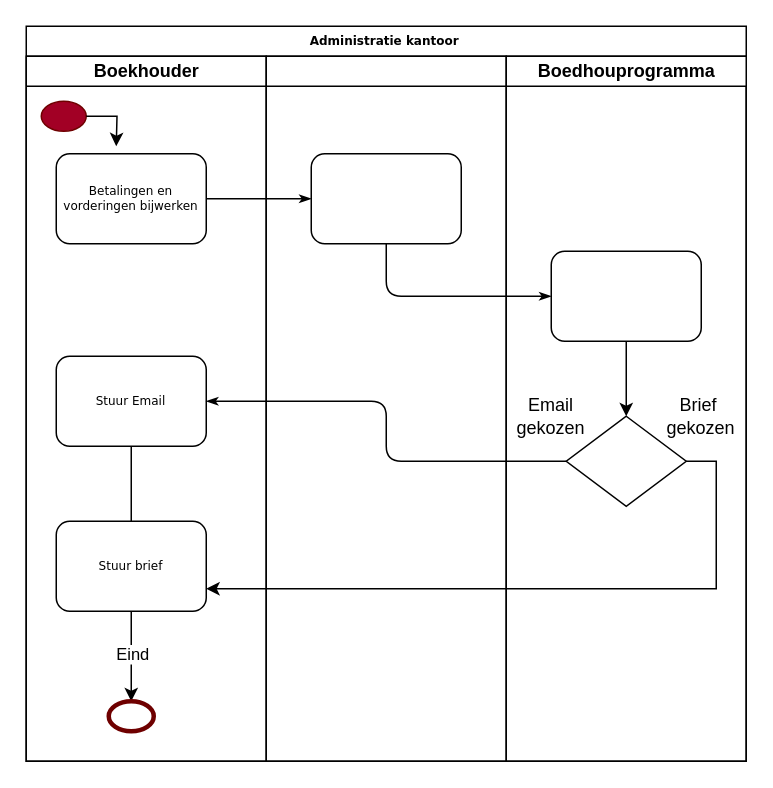
Image size: 773x788. Some labels were removed from this diagram. The shapes that lost their labels are listed below. From the top down, each one's box as (x1, y1, x2, y2) in pixels, then its label:
(310, 152, 461, 244): Maximum bedrag instellen
(550, 250, 701, 341): Lijst afdrukken van alle debiteuren meer dan {Bedrag}
(265, 55, 506, 761): Debiteurenadministartie
